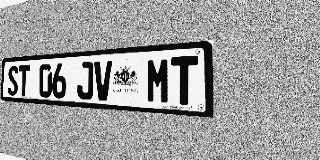0: (39, 64, 52, 98)
6: (52, 63, 66, 99)
J: (77, 61, 94, 100)
M: (146, 57, 170, 104)
S: (8, 65, 18, 96)
T: (171, 56, 198, 106), (18, 65, 30, 97)
V: (94, 60, 112, 101)
